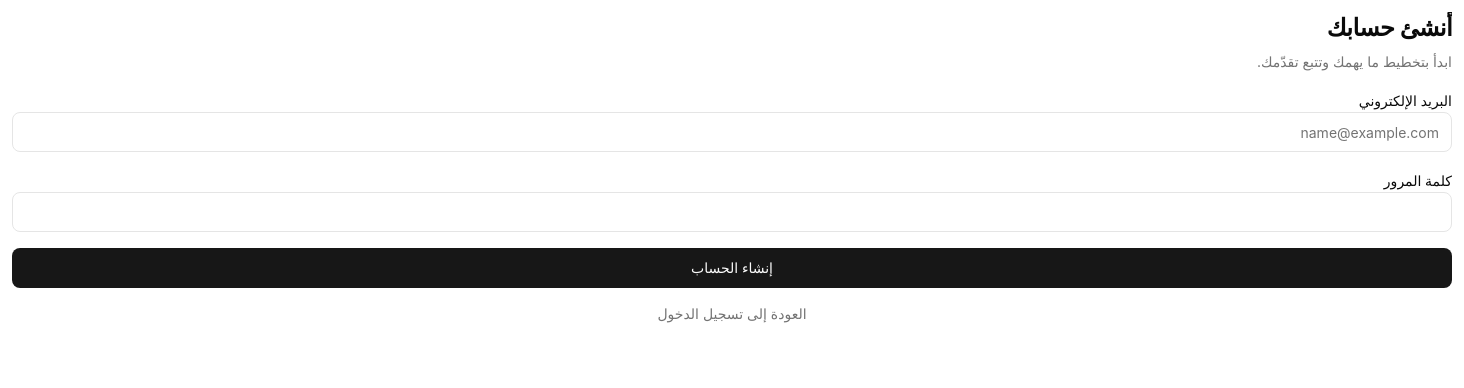
it: localized validation feedback › shows Arabic auth field errors in an RTL form
This screenshot has width=1464, height=388.
In the field labelled "البريد الإلكتروني": (732, 132) [12, 112, 1452, 152], type "invalid"
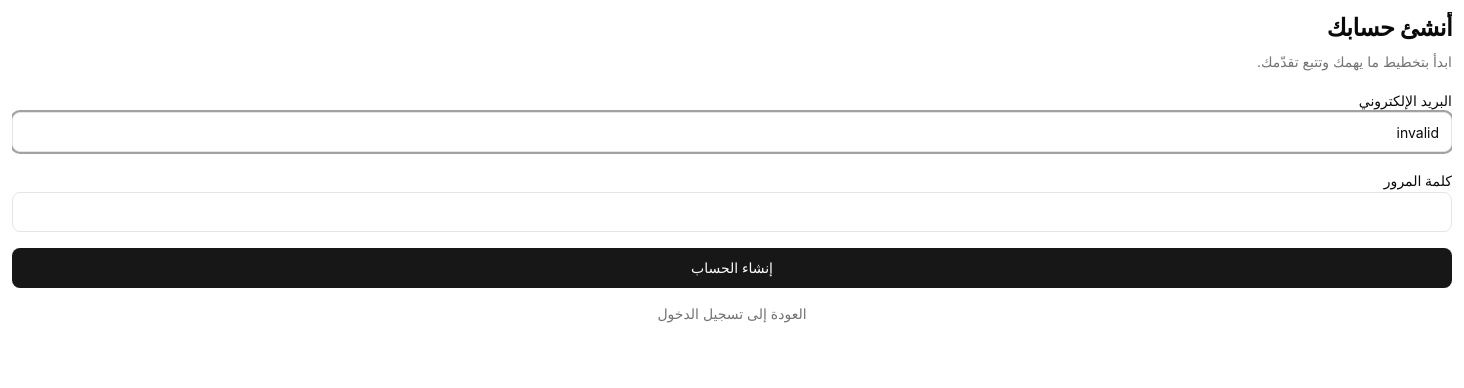
In the password field labelled "كلمة المرور": (732, 212) [12, 192, 1452, 232], type "short"
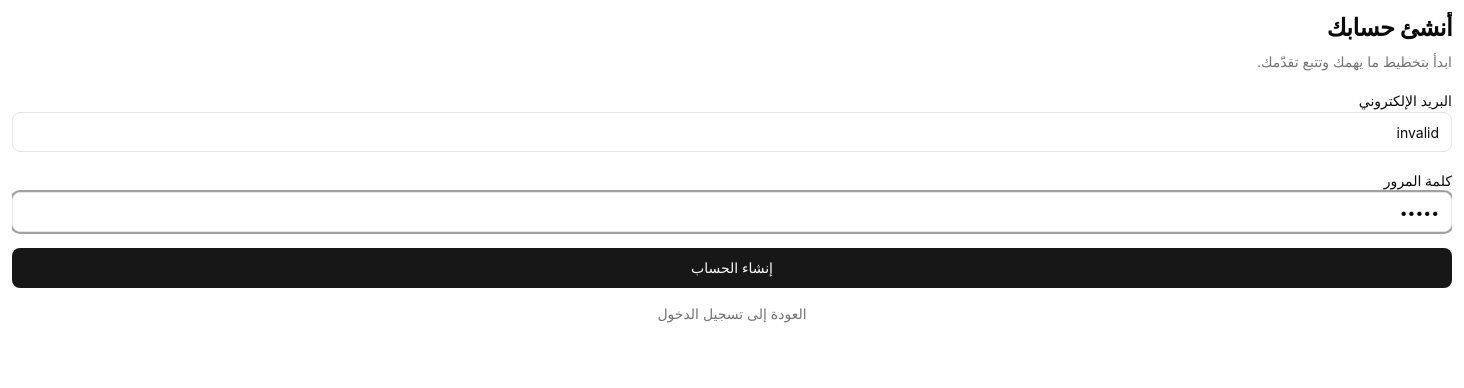
Click the button "إنشاء الحساب": (732, 268) [12, 248, 1452, 288]
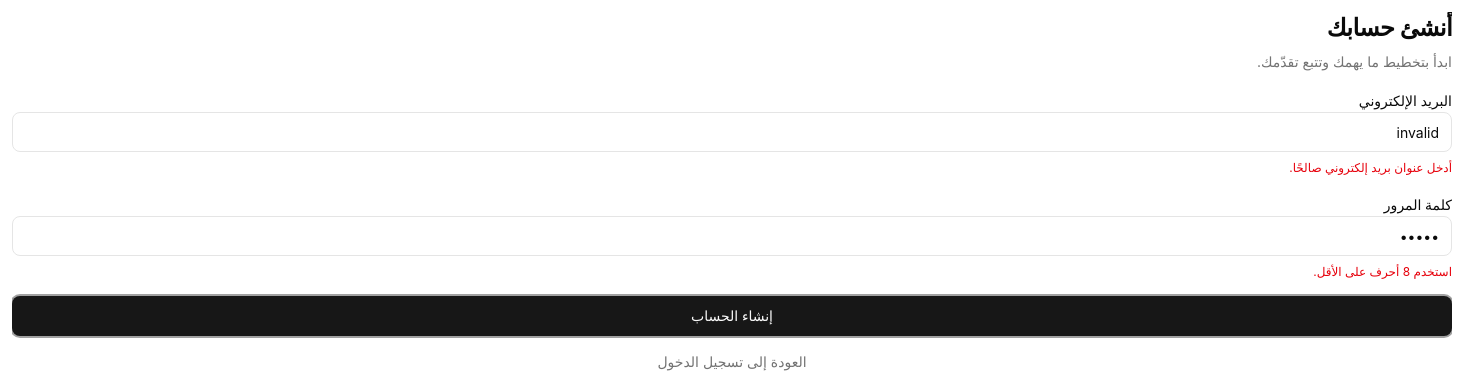
Check: the text "أدخل عنوان بريد إلكتروني صالحًا." is shown, box [1289, 160, 1452, 175]
